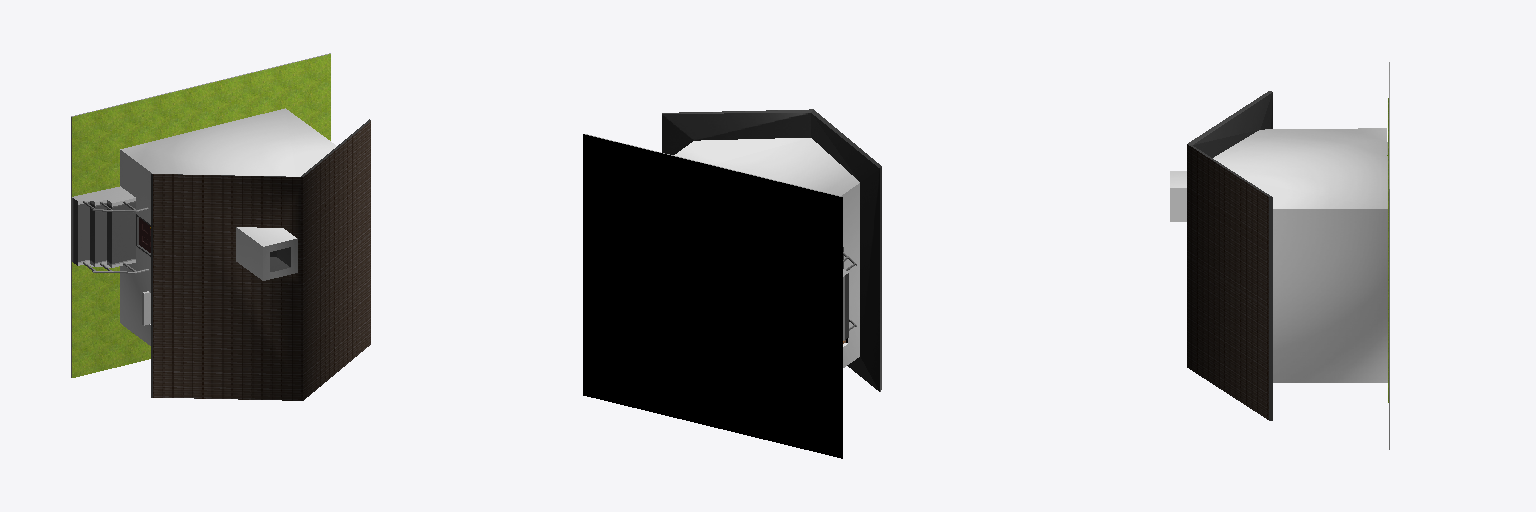
The picture shows the model from 3 angles: view 1: azimuth 30°, elevation 25°; view 2: azimuth 150°, elevation 25°; view 3: azimuth 270°, elevation 25°; orthographic projection.
Parts seen in each view (by area): view 1: Box001; view 2: Box001; view 3: Box001.
Boxes of the visible parts, <box> form: Box001: <box>71,53,370,400</box>; Box001: <box>583,109,881,458</box>; Box001: <box>1170,62,1389,449</box>.
Size of the model in its own units: 109 by 105 by 80.59.
1 materials, 1 textured.